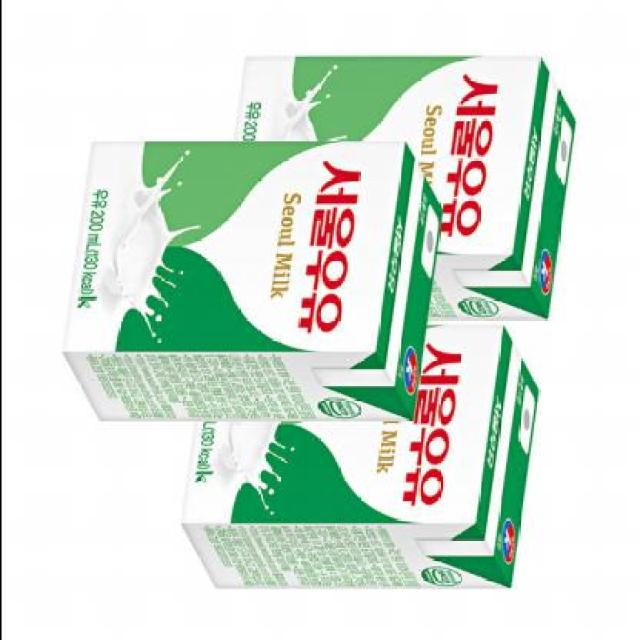tetra: (51, 121, 458, 441)
